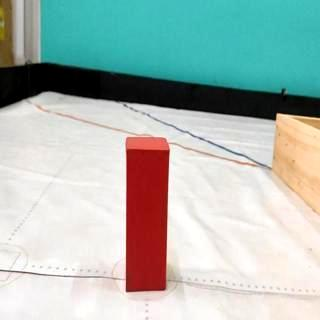redbox: (124, 134, 170, 292)
